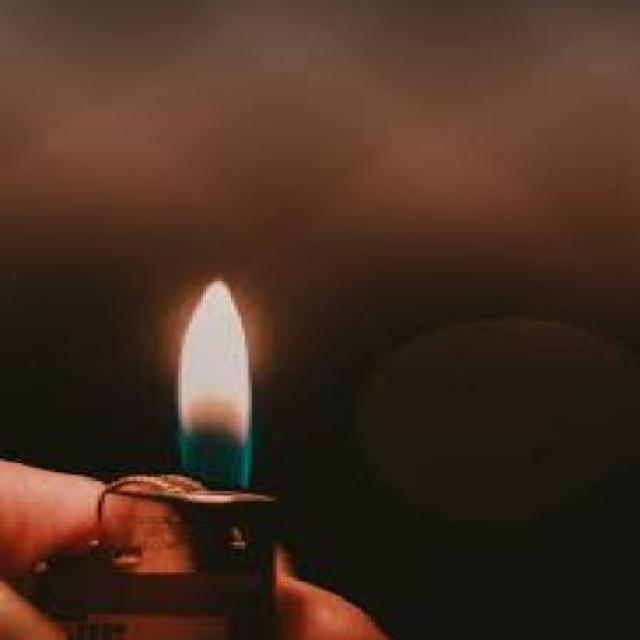Fire: (170, 258, 261, 495)
